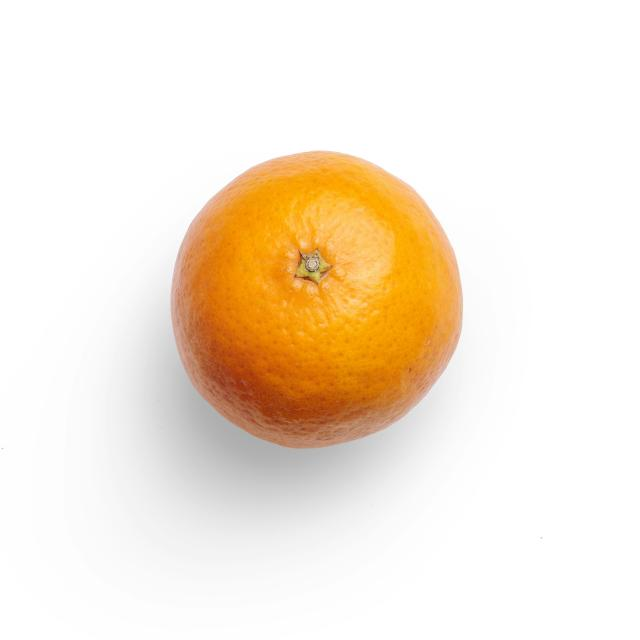tangerine: (169, 154, 461, 445)
